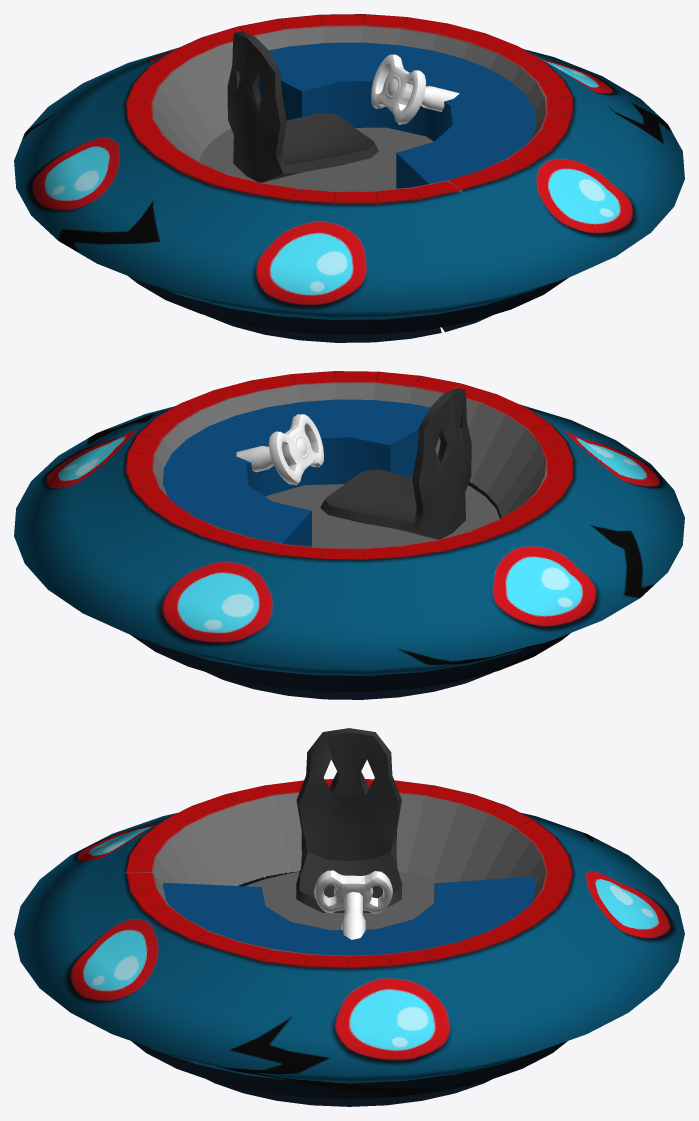
File: Nave_Sincupula.FBX
The picture shows the model from 3 angles, top to bottom: view 1: azimuth 30°, elevation 25°; view 2: azimuth 150°, elevation 25°; view 3: azimuth 270°, elevation 25°; orthographic projection.
Parts seen in each view (by area): view 1: Nave; view 2: Nave; view 3: Nave.
Boxes of the visible parts, left/top/right/bottom form: Nave: left=14, top=14, right=684, bottom=342; Nave: left=14, top=371, right=684, bottom=699; Nave: left=14, top=728, right=684, bottom=1106.
Bounding box in the file's own units: 67.45 × 27.55 × 67.45.
